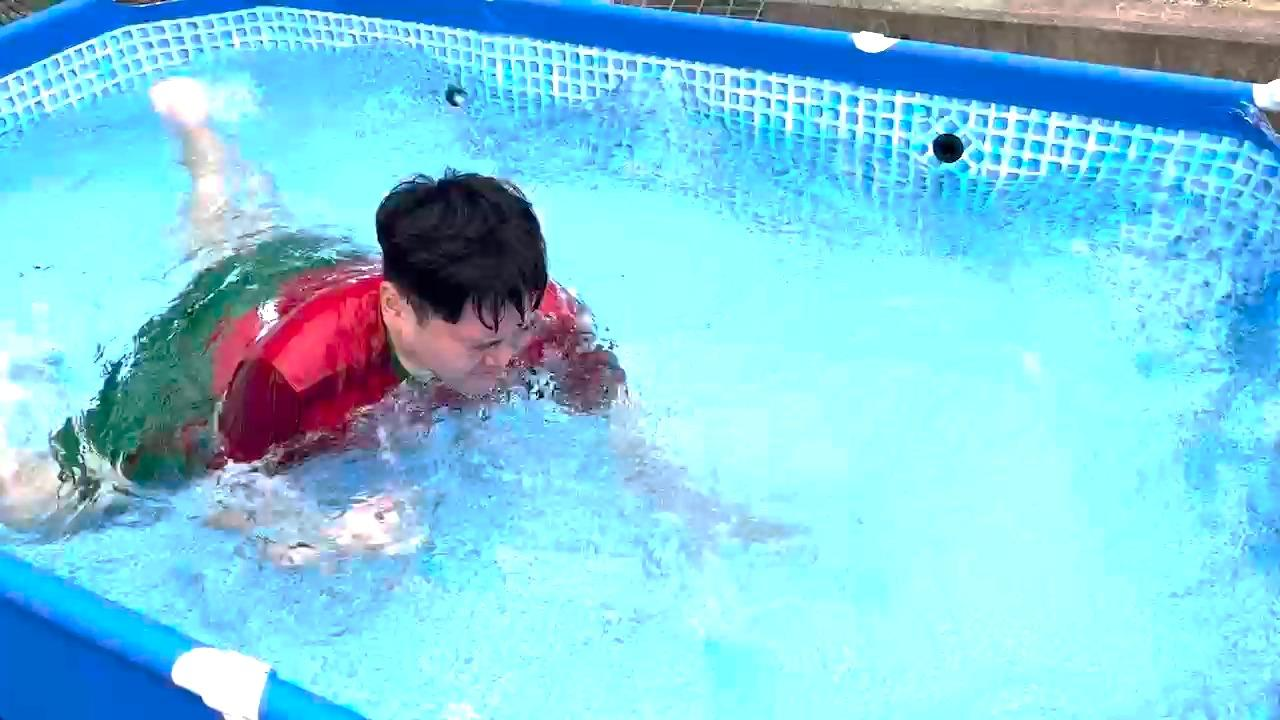Drowning: (0, 27, 732, 614)
